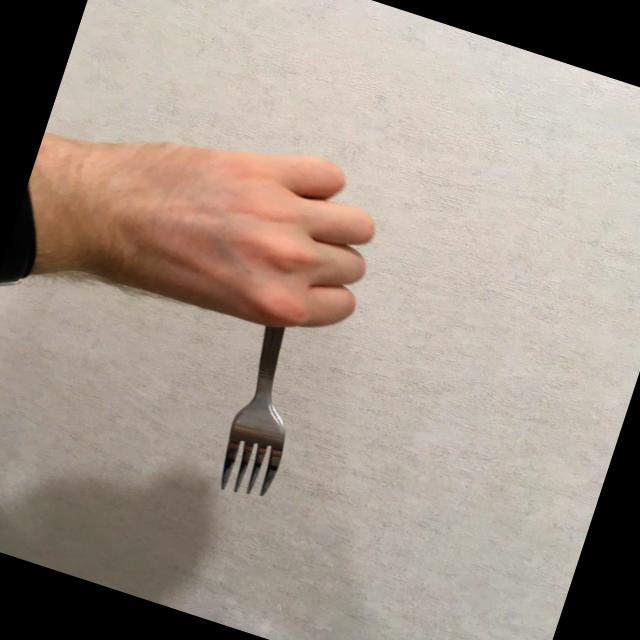fork: (205, 252, 345, 508)
